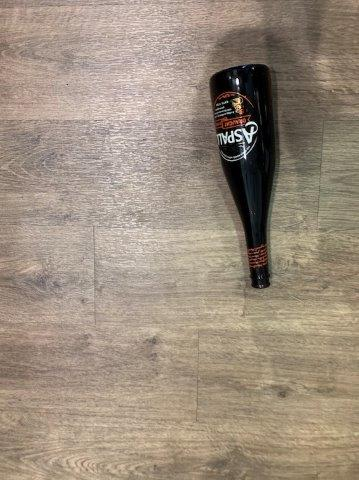botolkaca: (209, 63, 274, 288)
